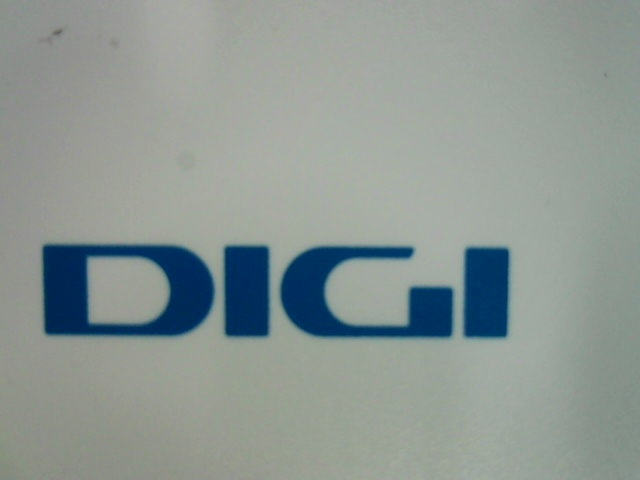BL_DIGI: (26, 225, 528, 354)
